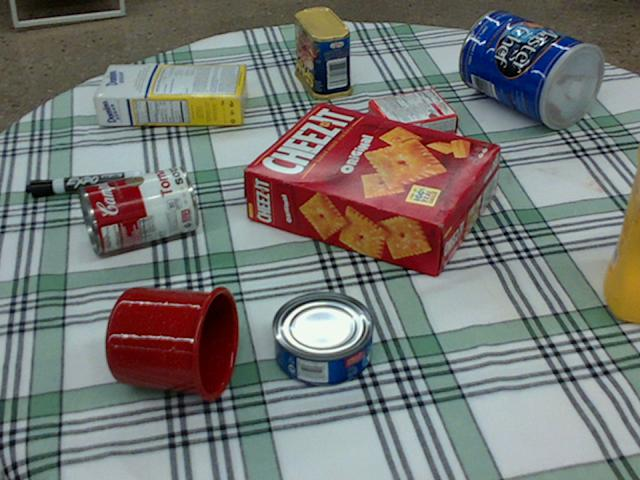cracker_box: (245, 100, 499, 274)
gelatin_box: (366, 85, 457, 147)
large_marker: (25, 170, 140, 197)
master_chef_can: (458, 11, 602, 128)
mug: (104, 282, 238, 399)
mustard_bottle: (603, 143, 639, 321)
potted_meat_can: (293, 6, 352, 99)
sugar_box: (94, 65, 248, 123)
tomato_soup_can: (78, 164, 197, 253)
tuna_fish_can: (271, 291, 373, 386)
